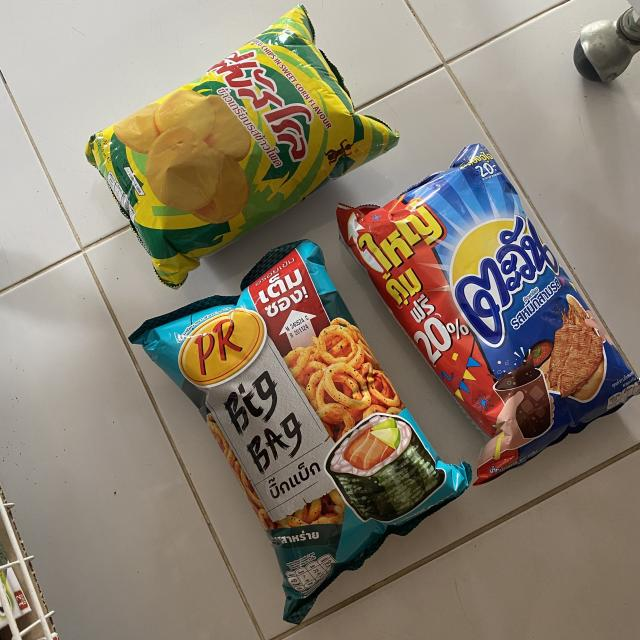plastik: (130, 240, 471, 624), (336, 144, 640, 485), (85, 6, 399, 288)
